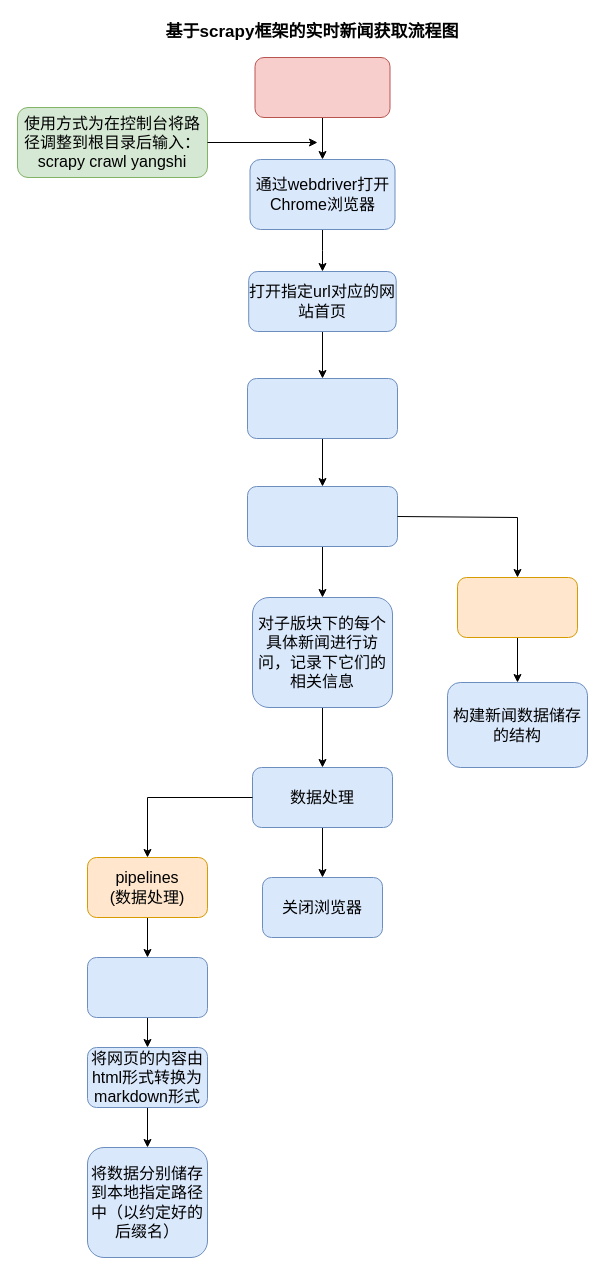
Some shapes in this 605 by 1275 pixel diagram are drawn without their labels. Each missing label, with the centre of its shape:
"items (数据储存)" goes at [517,607].
"主体" goes at [322,87].
"对子版块分别 进行访问" goes at [322,516].
"标签转换为数字" goes at [147,987].
"获取子版块的url" goes at [322,408].
